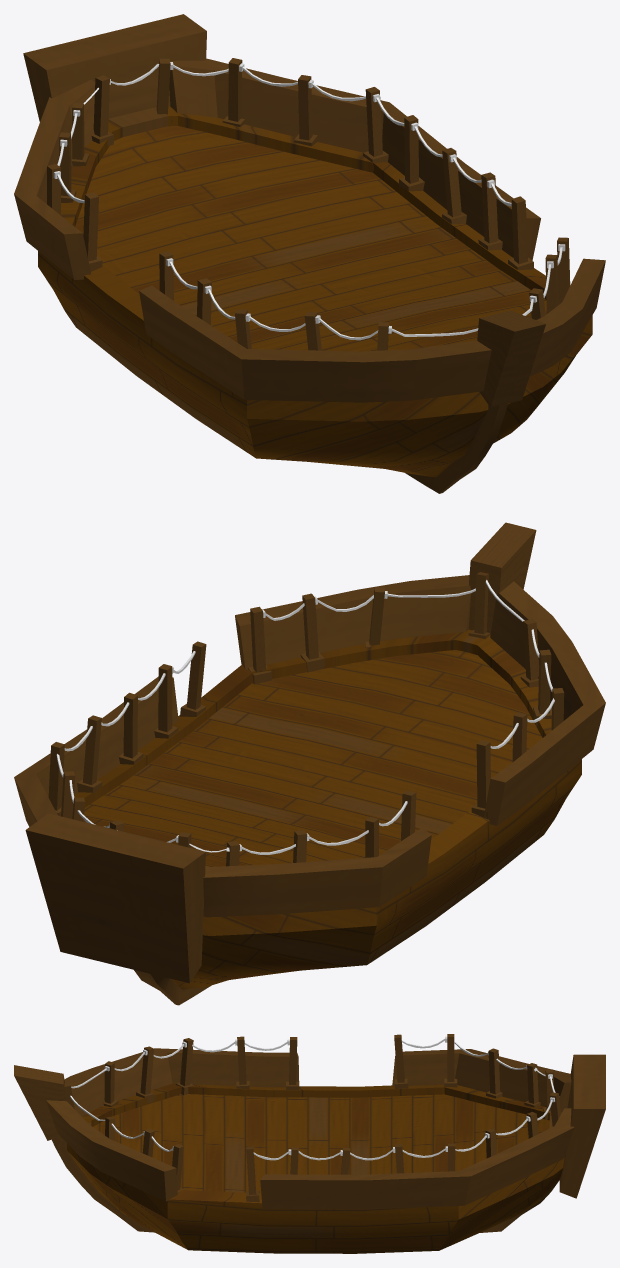
Rendered from mesh_boat.fbx.
The picture shows the model from 3 angles, top to bottom: view 1: azimuth 30°, elevation 25°; view 2: azimuth 150°, elevation 25°; view 3: azimuth 270°, elevation 25°; orthographic projection. The views are drawn at different scales.
Parts seen in each view (by area): view 1: mesh_boat; view 2: mesh_boat; view 3: mesh_boat.
Part boxes in pixels (x1,y1,x2,y2): mesh_boat: (14, 14, 605, 493); mesh_boat: (14, 522, 605, 1005); mesh_boat: (14, 1034, 605, 1253).
Size of the model in its own units: 53.04 by 32.67 by 104.
